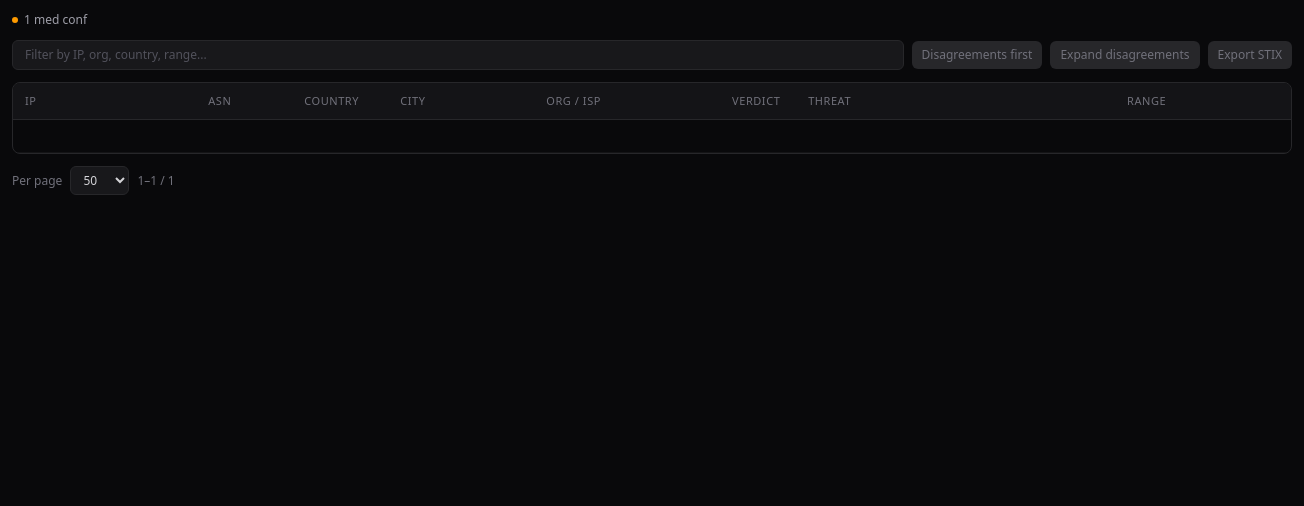
it: Expand disagreements toggle › expands on first click, collapses on second
The width and height of the screenshot is (1304, 506).
Check: the text "Threat details" is not shown
Click the button "Expand disagreements": coordinates (1125, 55) [1050,41,1200,69]
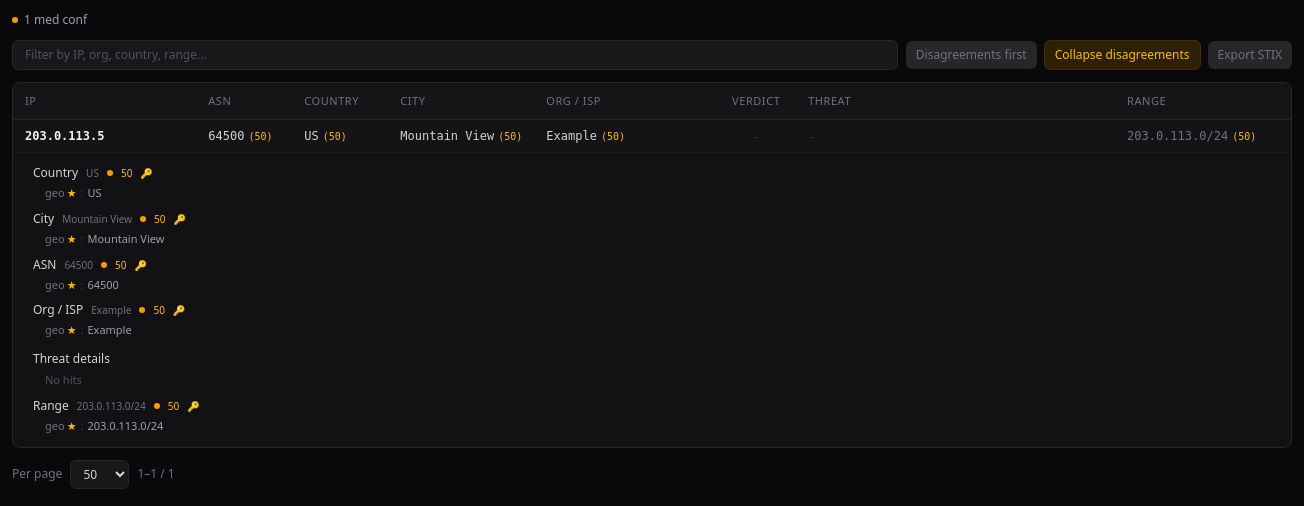
Check: the text "Threat details" is shown, box [33,350,110,367]
Click the button "Collapse disagreements": coordinates (1122, 55) [1045,41,1200,69]
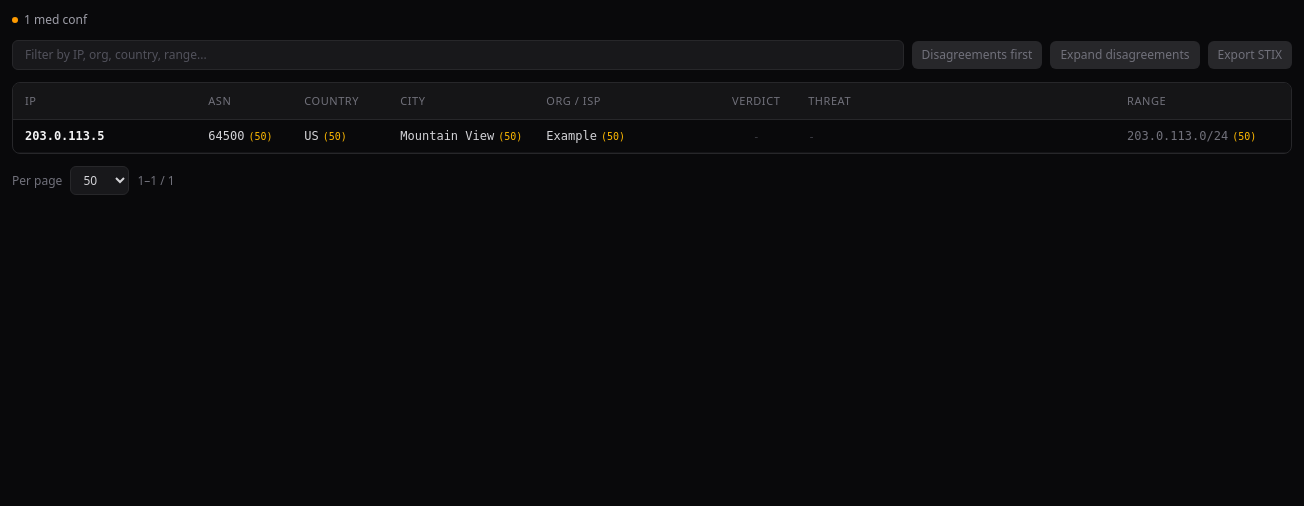
Check: the button "Expand disagreements" is shown, box [1050,41,1200,69]
